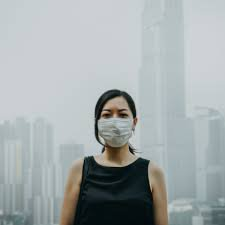mask: (87, 86, 149, 152)
